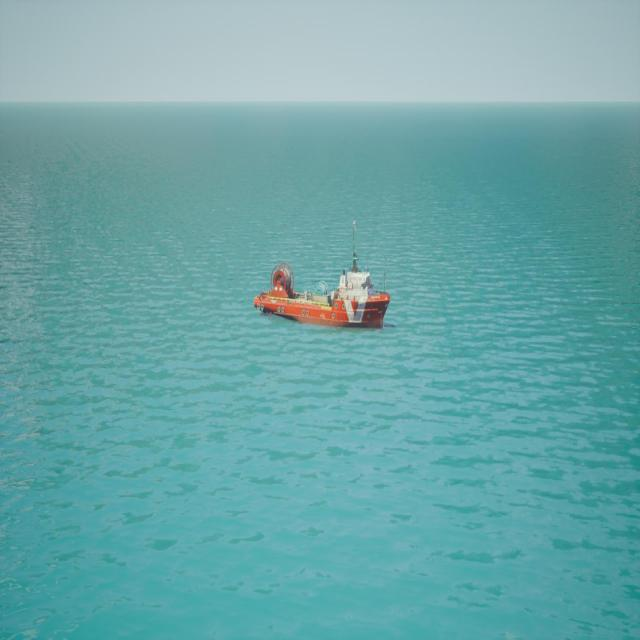tug boat: (251, 249, 395, 335)
